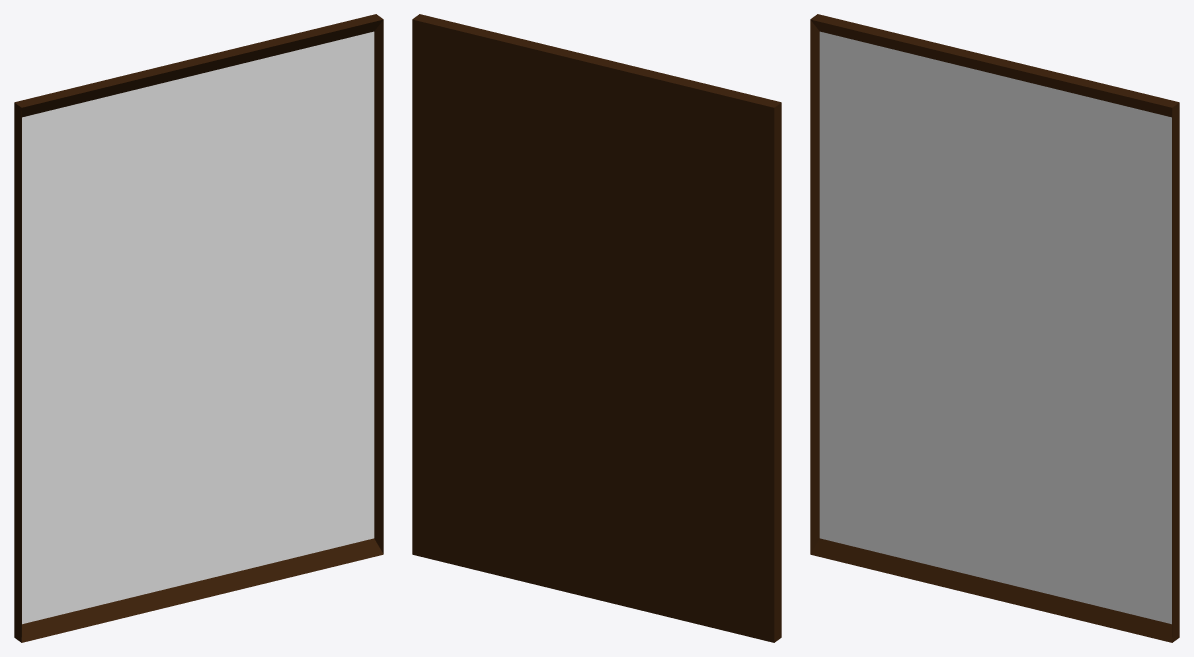
The model's file is Cuadro.FBX.
3 views of the same model, side by side, from view 1: azimuth 30°, elevation 25°; view 2: azimuth 150°, elevation 25°; view 3: azimuth 330°, elevation 25° (orthographic).
Parts seen in each view (by area): view 1: Cuadro; view 2: Cuadro; view 3: Cuadro.
Part boxes in pixels (left/top/right/bottom): Cuadro: left=14, top=14, right=383, bottom=642; Cuadro: left=412, top=14, right=781, bottom=642; Cuadro: left=810, top=14, right=1179, bottom=642.
Size of the model in its own units: 3.88 by 5.47 by 0.1392.
